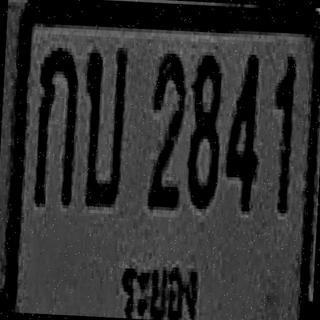A01: (33, 45, 79, 207)
A26: (80, 46, 128, 208)
N01: (269, 56, 296, 214)
N02: (148, 49, 187, 208)
N04: (224, 50, 262, 212)
N08: (186, 52, 223, 210)
P53: (114, 251, 206, 320)
